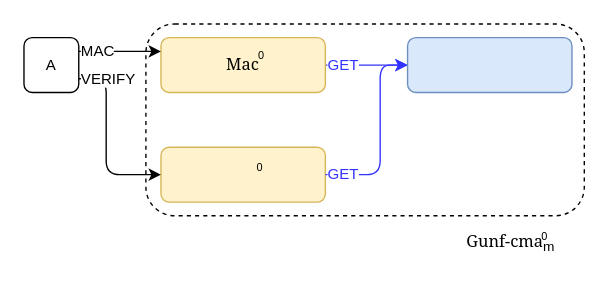
The diagram is 608 pixels wide and 281 high, and some of its shapes have lost their labels. Here are the shapes that lost their labels. From the top down, the box of each, then its label:
(406, 36, 572, 92): Key
(160, 146, 325, 202): Ver
